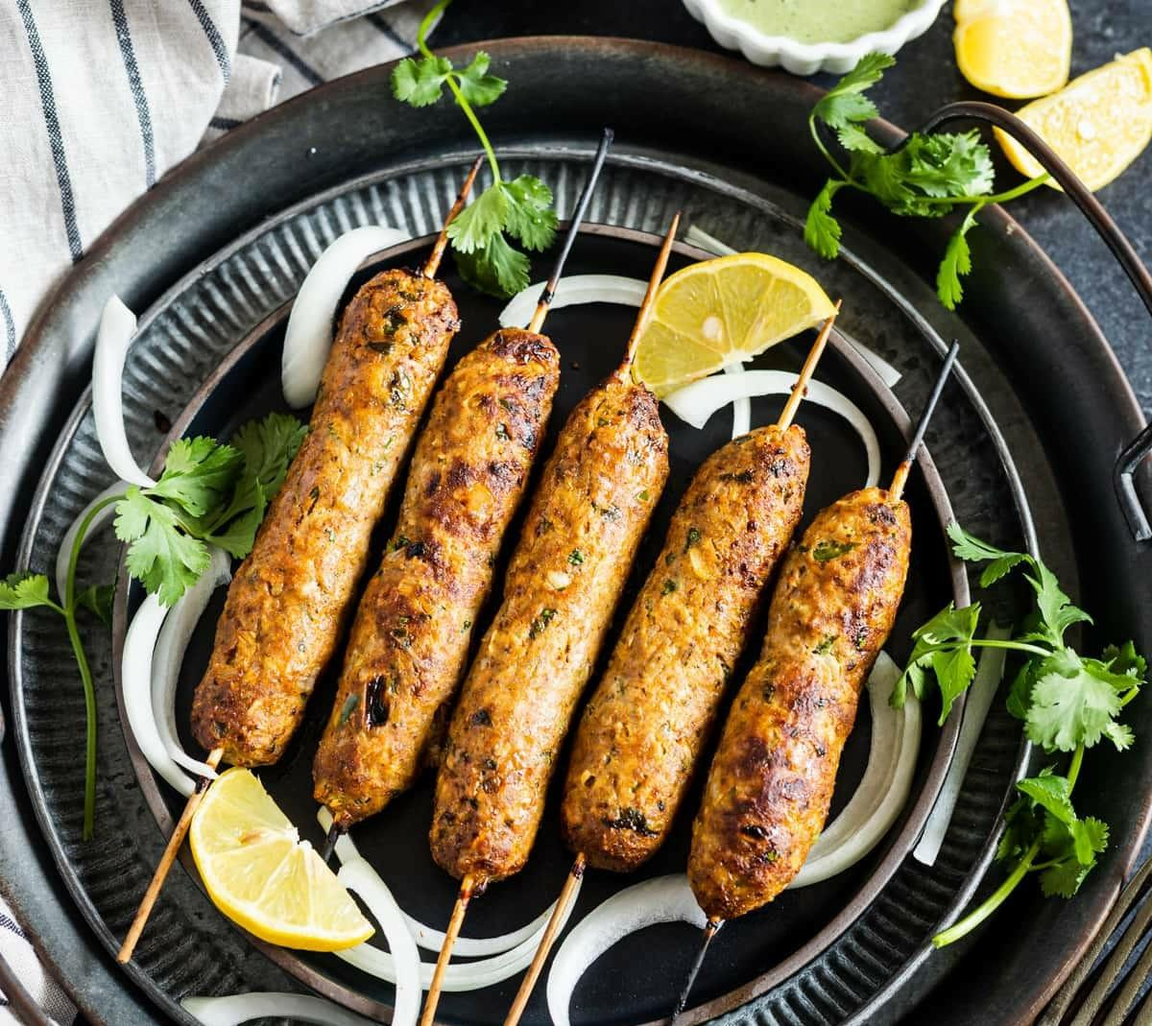GreenChutney: (711, 0, 918, 46)
Kebab: (190, 270, 464, 765), (429, 385, 669, 886), (322, 327, 560, 823), (562, 425, 812, 867), (690, 485, 911, 917)
